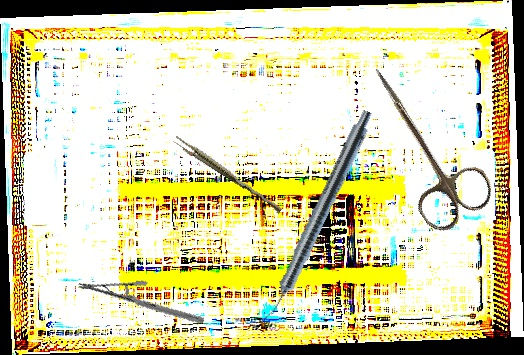Handpiece: (257, 106, 377, 328)
Iris Scissors: (340, 49, 501, 239)
Needle Holder: (77, 257, 205, 349)
Tissue Forceps: (171, 135, 285, 214)
